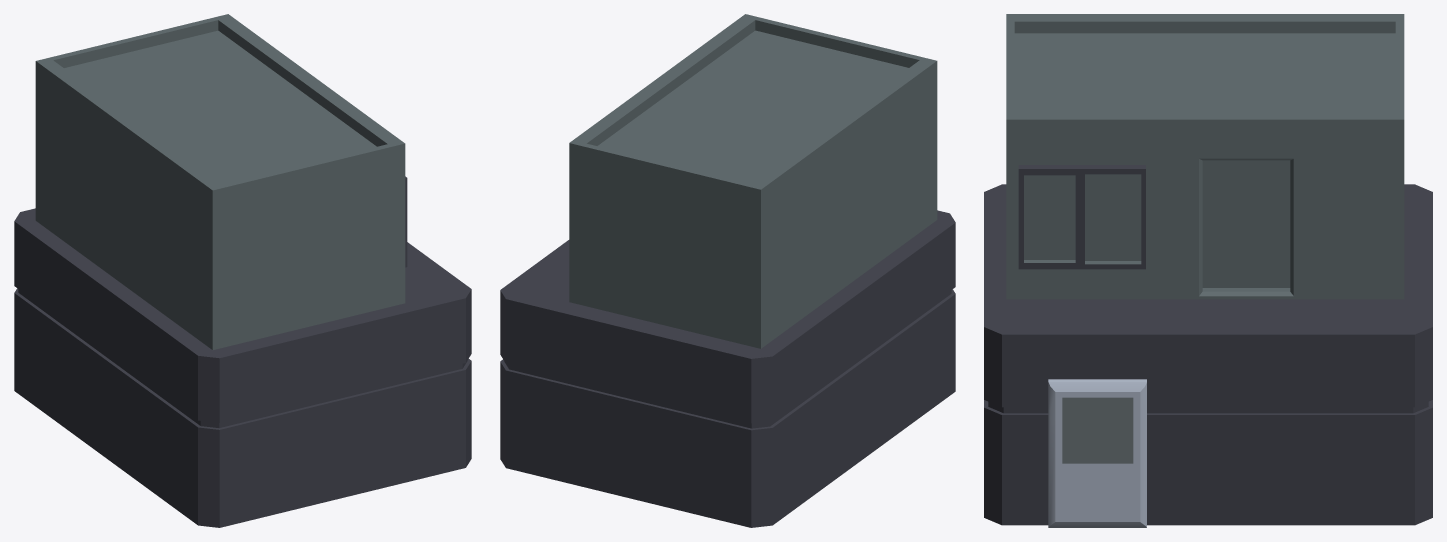
Rendered from 8_Scaffolding.fbx.
3 views of the same model, side by side, from view 1: azimuth 30°, elevation 25°; view 2: azimuth 150°, elevation 25°; view 3: azimuth 270°, elevation 25° (orthographic). The views are drawn at different scales.
Parts seen in each view (by area): view 1: pasted__pCube2, pasted__pCube107; view 2: pasted__pCube2, pasted__pCube107; view 3: pasted__pCube2, pasted__pCube107.
Part boxes in pixels (x1,y1,x2,y2): pasted__pCube2: [35, 14, 407, 349]; pasted__pCube107: [14, 208, 471, 527]; pasted__pCube2: [569, 14, 937, 348]; pasted__pCube107: [500, 210, 955, 527]; pasted__pCube2: [1006, 14, 1404, 299]; pasted__pCube107: [984, 184, 1432, 527].
Bounding box in the file's own units: 5.19 × 5.8 × 6.37.
